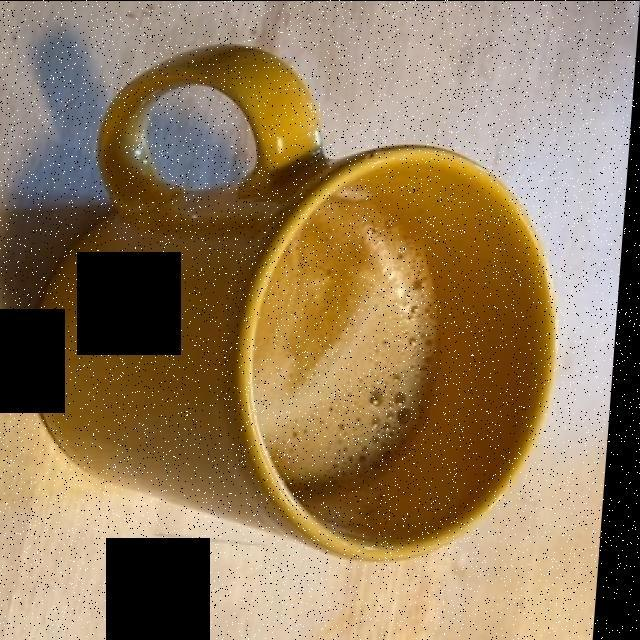coffee: (259, 192, 454, 505)
